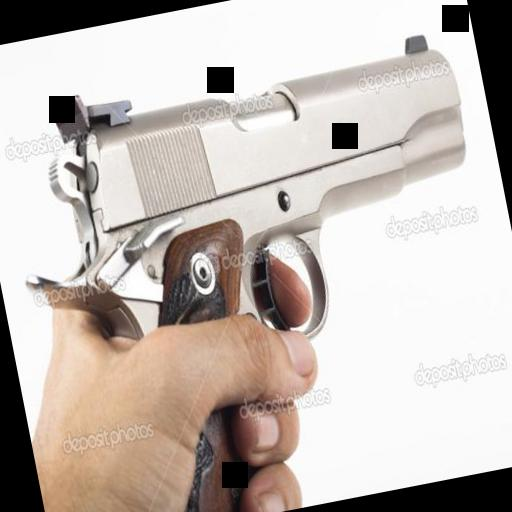Handgun: (0, 18, 512, 512)
